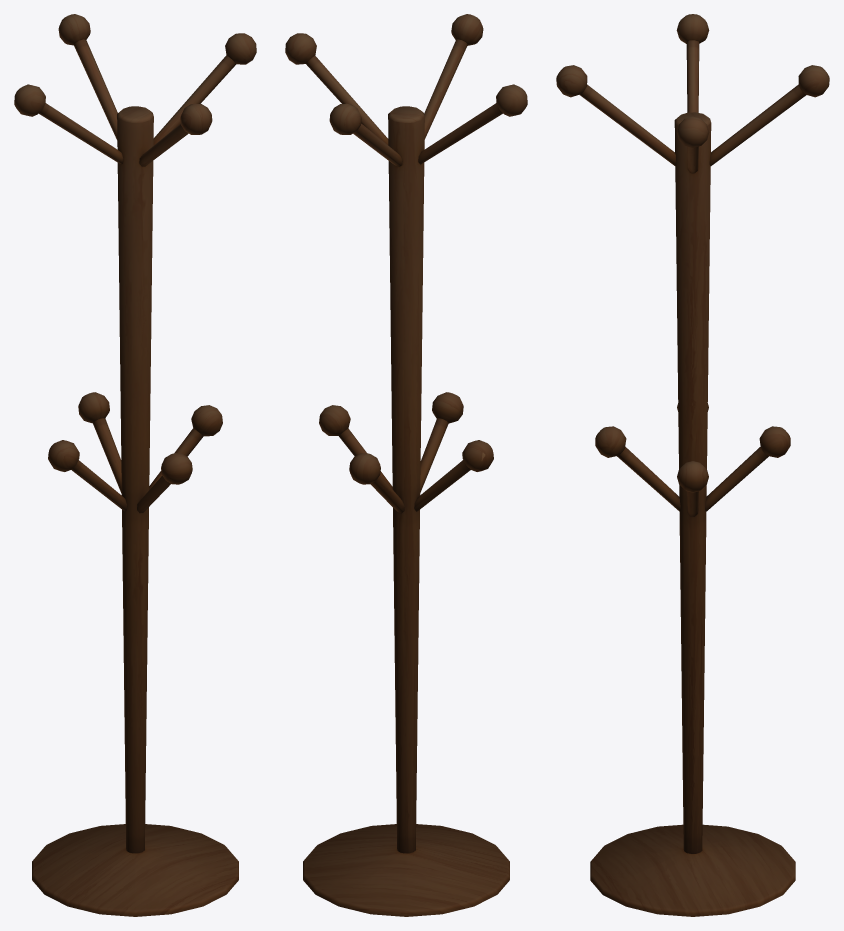
File: OfficeClothesHanger01.FBX
The picture shows the model from 3 angles, left to right: view 1: azimuth 30°, elevation 25°; view 2: azimuth 150°, elevation 25°; view 3: azimuth 270°, elevation 25°; orthographic projection.
Visible parts, largest first — view 1: OfficeClothesHanger01; view 2: OfficeClothesHanger01; view 3: OfficeClothesHanger01.
Part boxes in pixels (x1,y1,x2,y2): OfficeClothesHanger01: (14,14,256,916); OfficeClothesHanger01: (285,14,527,916); OfficeClothesHanger01: (556,14,829,916).
Size of what is drawn, in the model's own units: 0.6106 by 1.99 by 0.6106.
